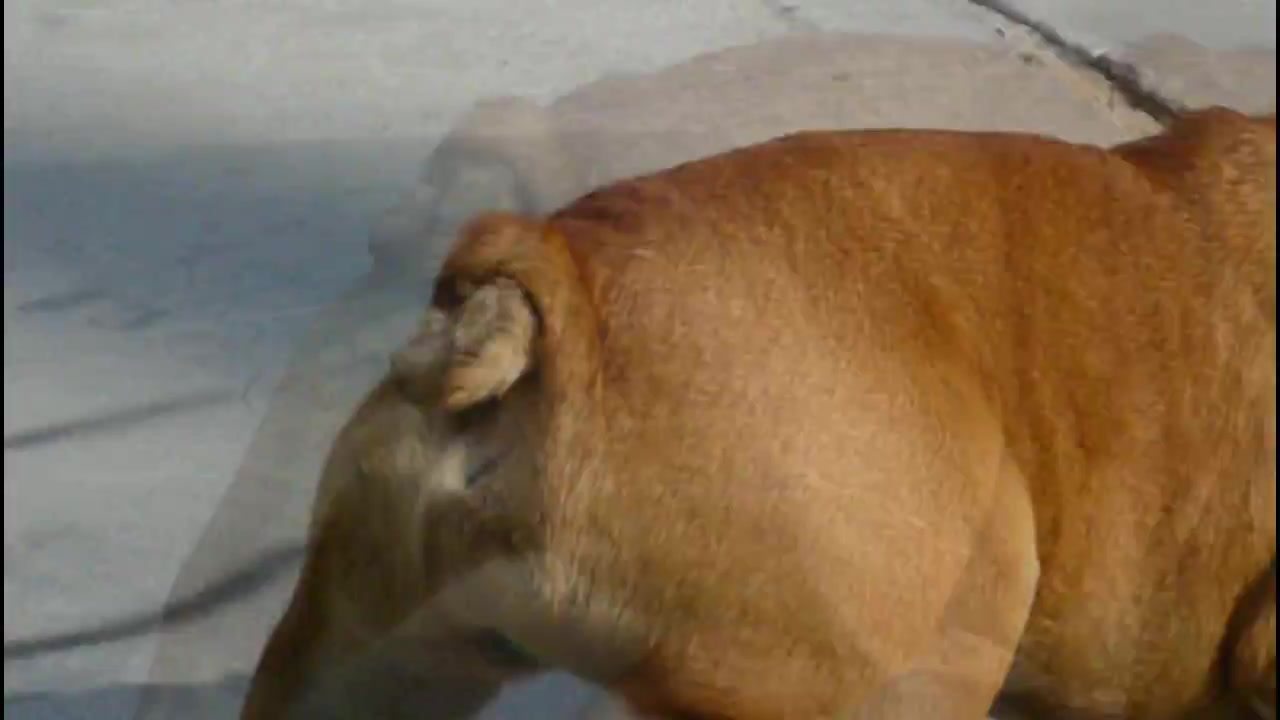dog: (243, 104, 1277, 718)
